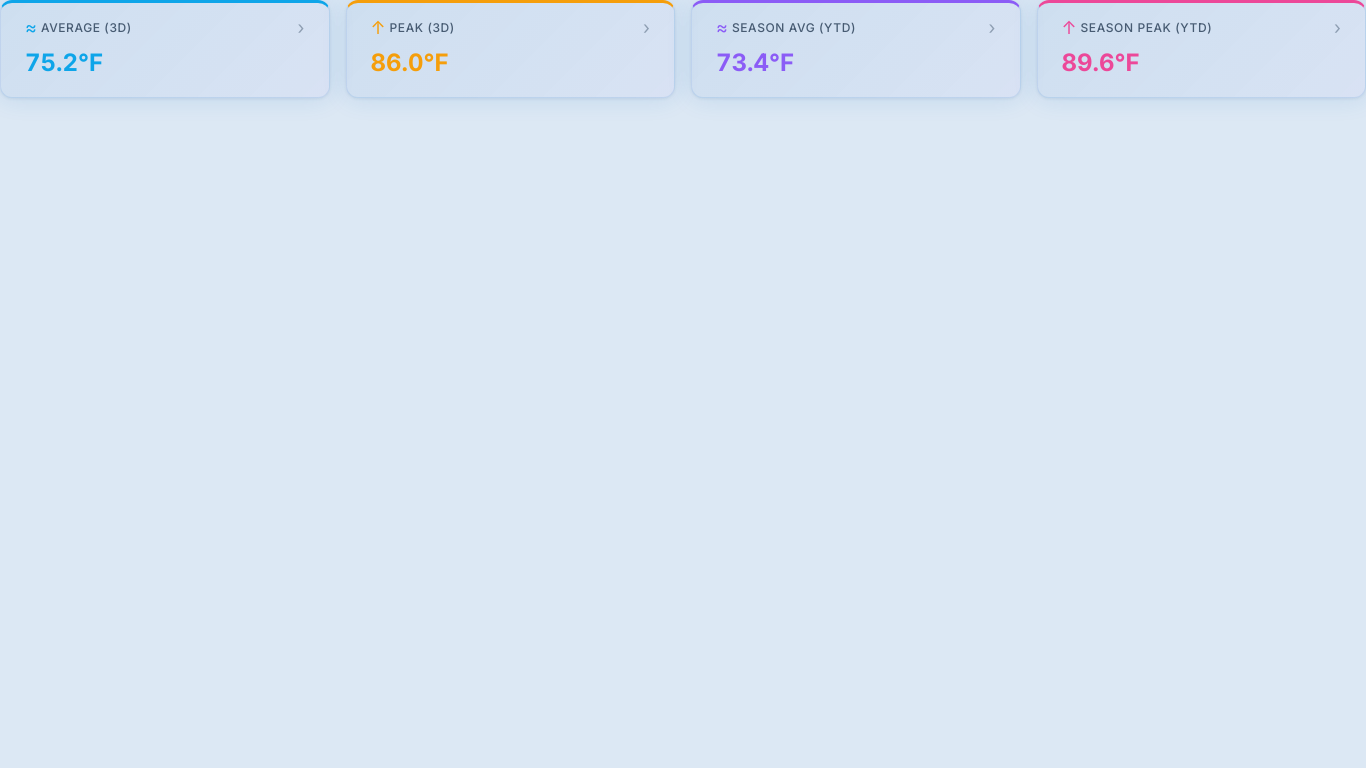
StatsGrid › opens average detail sheet when Average card is clicked
Step 1. Click the button with test id "stat-card" showing "≈ Average (3D) › 75.2°F" → (86, 28), box top-left (0, 0), bottom-right (330, 98)
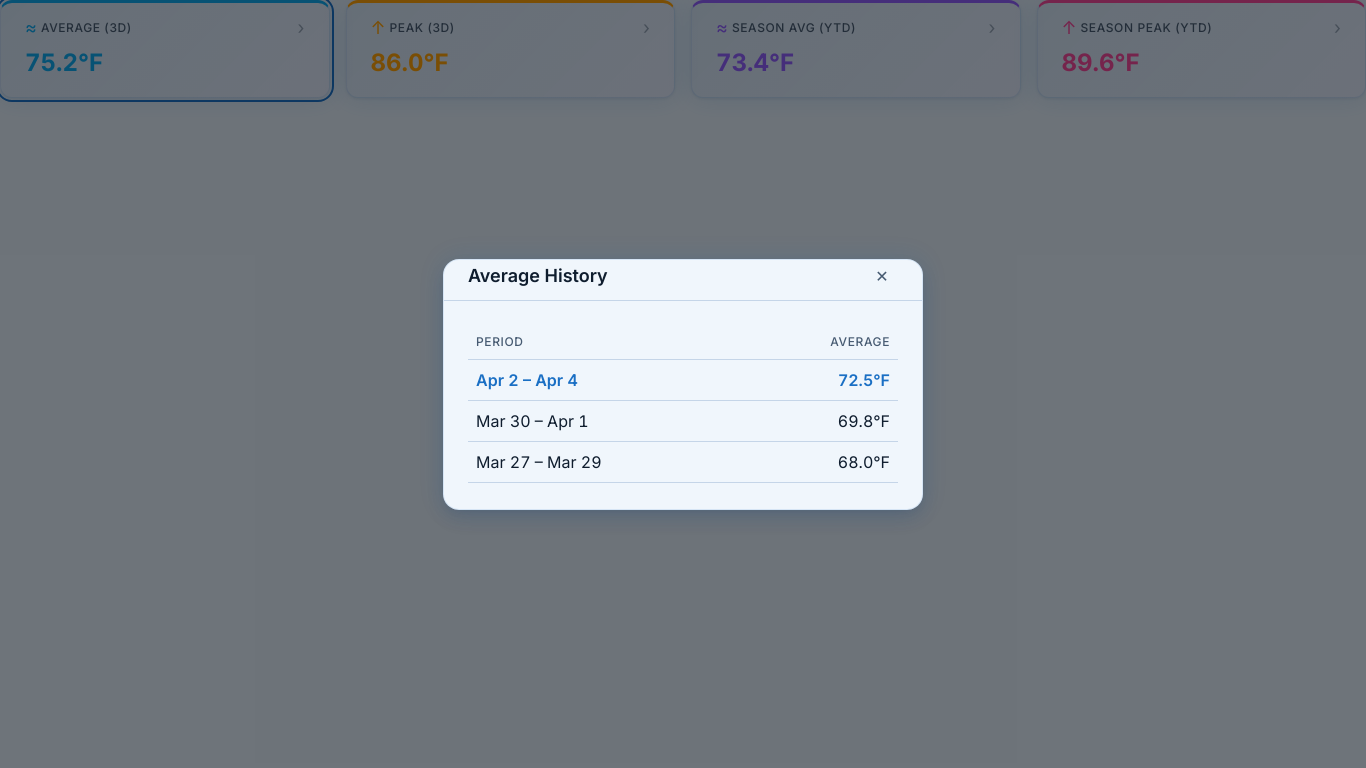
Check: the dialog is shown, box top-left (443, 258), bottom-right (923, 510)
Check: the heading "Average History" is shown, box top-left (468, 262), bottom-right (608, 289)
